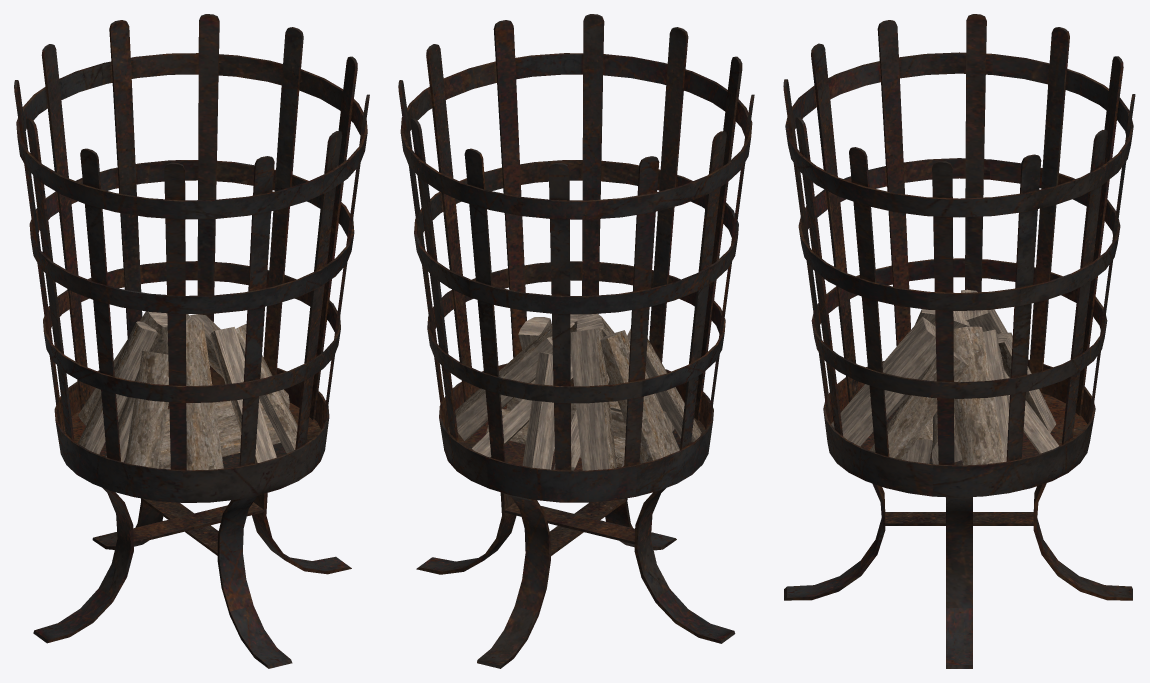
Rendered from Brazier.gltf.
3 renders of one model, left to right at view 1: azimuth 30°, elevation 25°; view 2: azimuth 150°, elevation 25°; view 3: azimuth 270°, elevation 25°, orthographic.
Visible parts, largest first — view 1: Brazier_01, Fire; view 2: Brazier_01, Fire; view 3: Brazier_01, Fire.
Boxes of the visible parts, left/top/right/bottom form: Brazier_01: left=14, top=14, right=369, bottom=668; Fire: left=78, top=311, right=297, bottom=470; Brazier_01: left=398, top=14, right=754, bottom=668; Fire: left=455, top=313, right=701, bottom=470; Brazier_01: left=783, top=14, right=1135, bottom=668; Fire: left=831, top=289, right=1059, bottom=465.
Size of the model in its own units: 0.7216 by 1.15 by 0.7216.
Materials: 2 (2 with a texture image).
